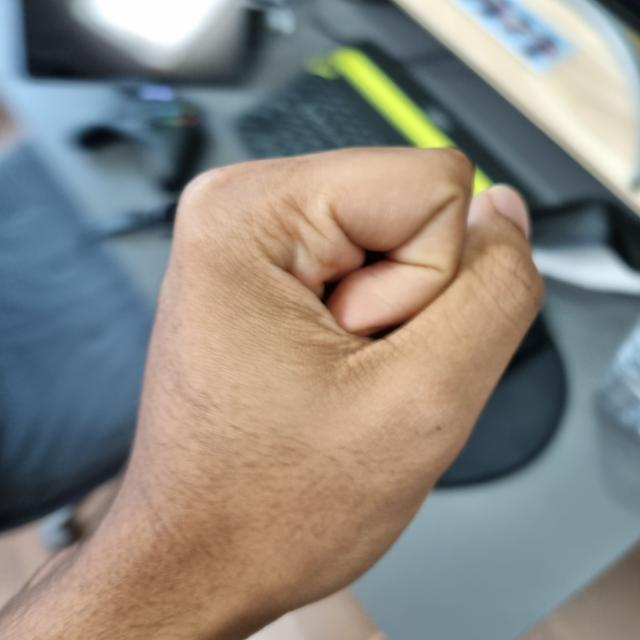Rock: (120, 142, 542, 617)
